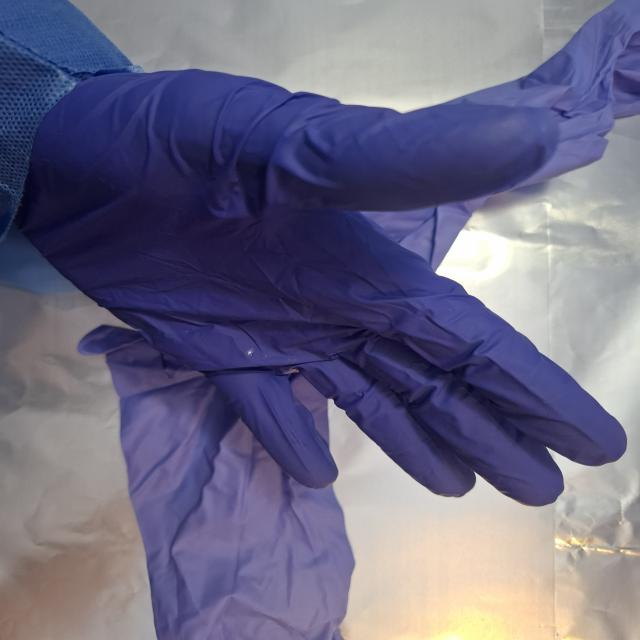glove_on: (13, 67, 632, 509)
